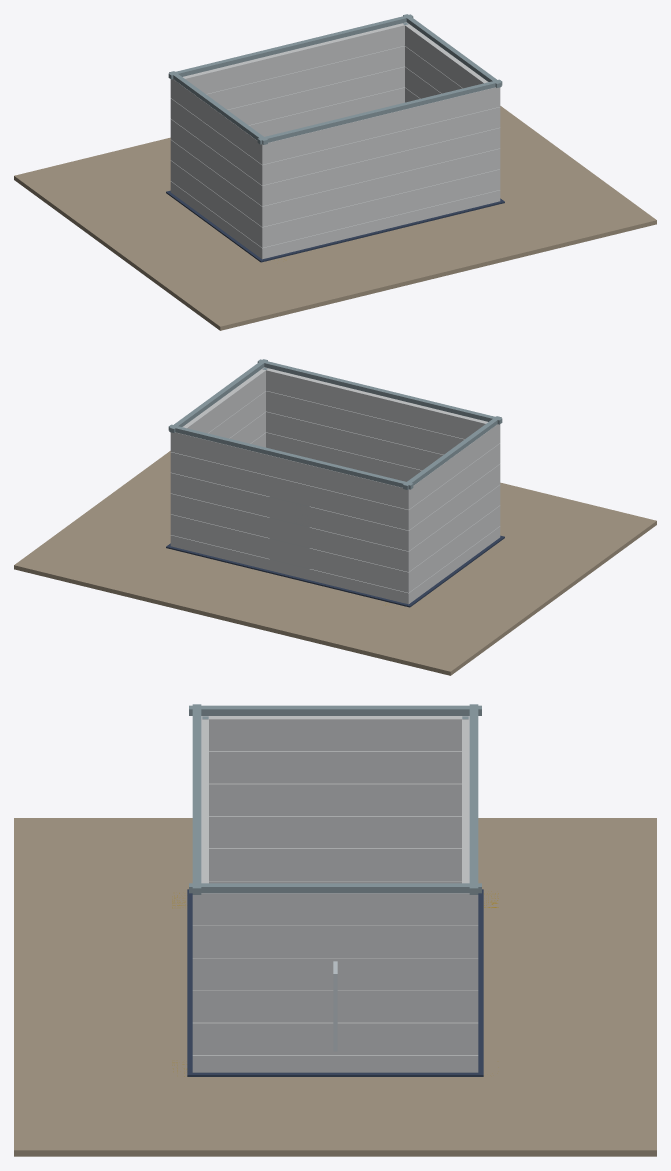
The model's file is stage_07_openings.glb.
3 views of the same model, one above another, from view 1: azimuth 30°, elevation 25°; view 2: azimuth 150°, elevation 25°; view 3: azimuth 270°, elevation 25° (orthographic). The views are drawn at different scales.
Visible parts, largest first — view 1: world; view 2: world; view 3: world.
Part boxes in pixels (bbox=[...]): world: bbox=[14, 14, 656, 330]; world: bbox=[14, 359, 656, 675]; world: bbox=[14, 704, 656, 1156].
Bounding box in the file's own units: 11 × 3.7 × 9.
